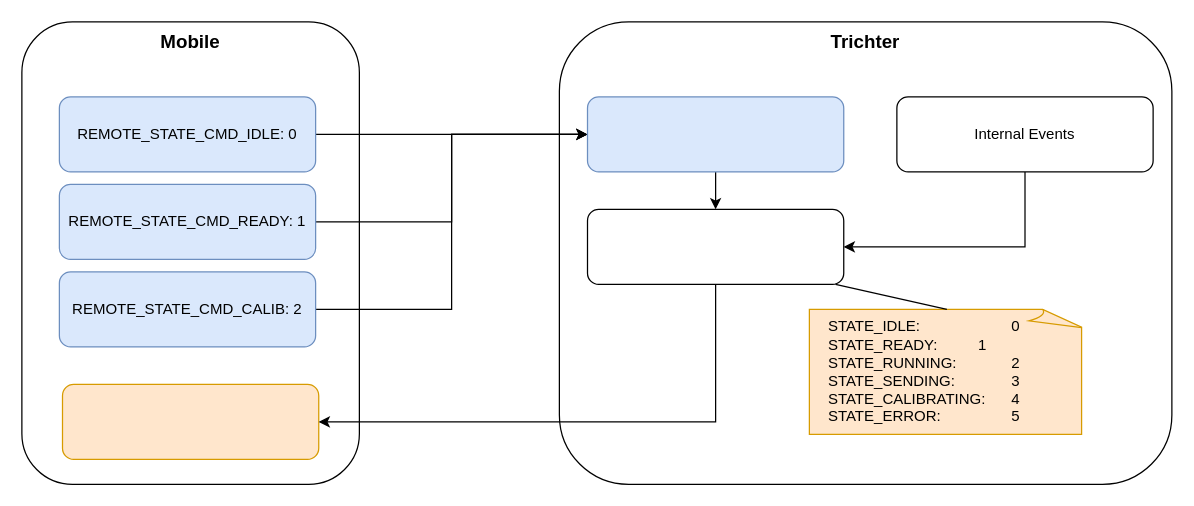
Image size: 1194x506. Some labels were removed from this diagram. Each missing label, with the centre of its shape:
"State Dispatcher" goes at point 715,134.
"State Machine" goes at point 715,246.
"Trichter observer" goes at point 190,421.
